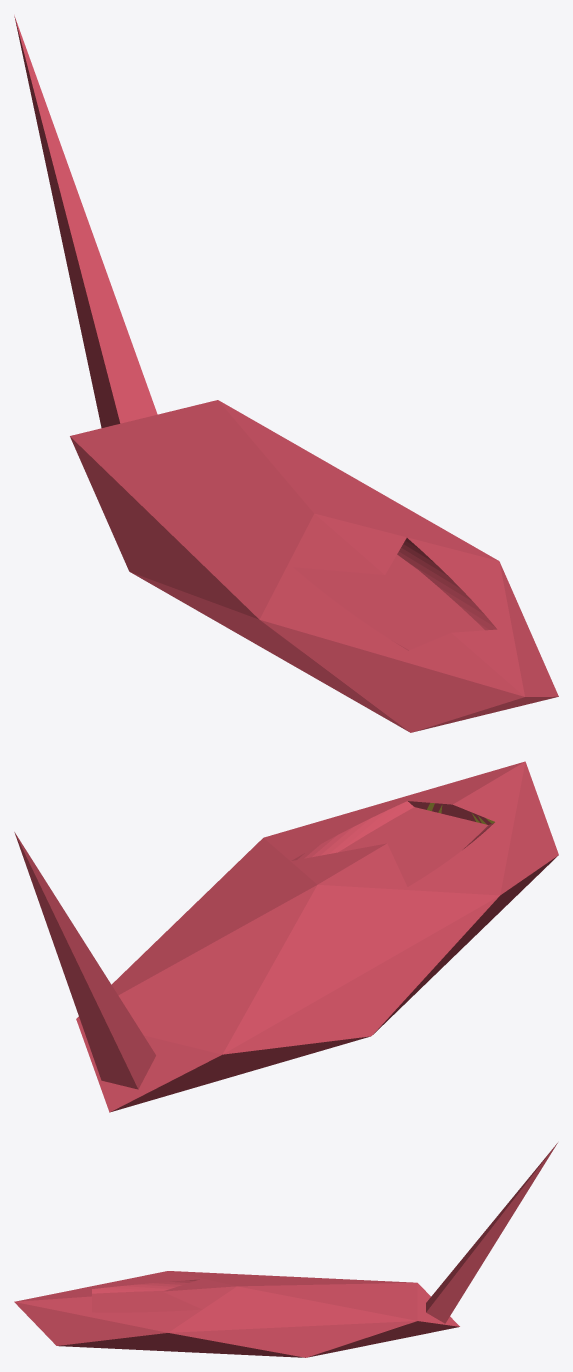
File: RoverChassisPrototype1.glb
The picture shows the model from 3 angles, top to bottom: view 1: azimuth 30°, elevation 25°; view 2: azimuth 150°, elevation 25°; view 3: azimuth 270°, elevation 25°; orthographic projection. The views are drawn at different scales.
Visible parts, largest first — view 1: Mesh_Mesh_head_geo.001_lambert2SG.001; view 2: Mesh_Mesh_head_geo.001_lambert2SG.001; view 3: Mesh_Mesh_head_geo.001_lambert2SG.001.
Boxes of the visible parts, x1,y1,x2,y2 form: Mesh_Mesh_head_geo.001_lambert2SG.001: (14,15,558,732); Mesh_Mesh_head_geo.001_lambert2SG.001: (14,761,558,1112); Mesh_Mesh_head_geo.001_lambert2SG.001: (14,1143,557,1357).
Size of the model in its own units: 64.09 by 97.49 by 238.
